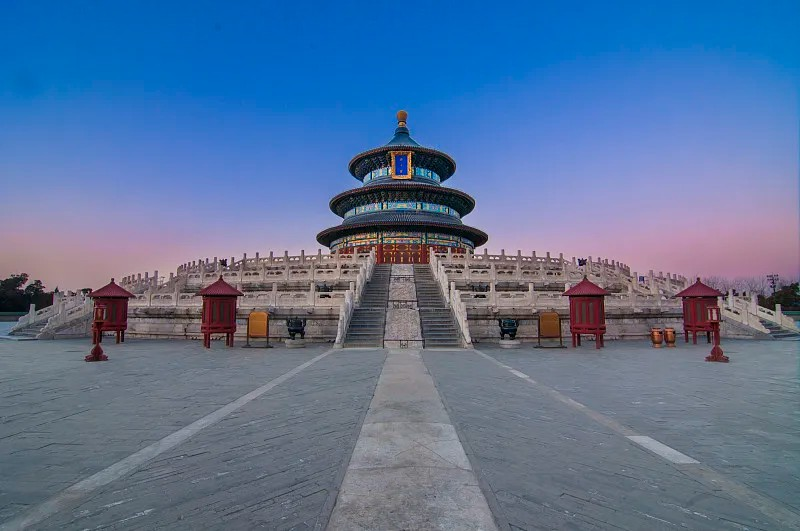Heaven: (315, 110, 489, 264)
